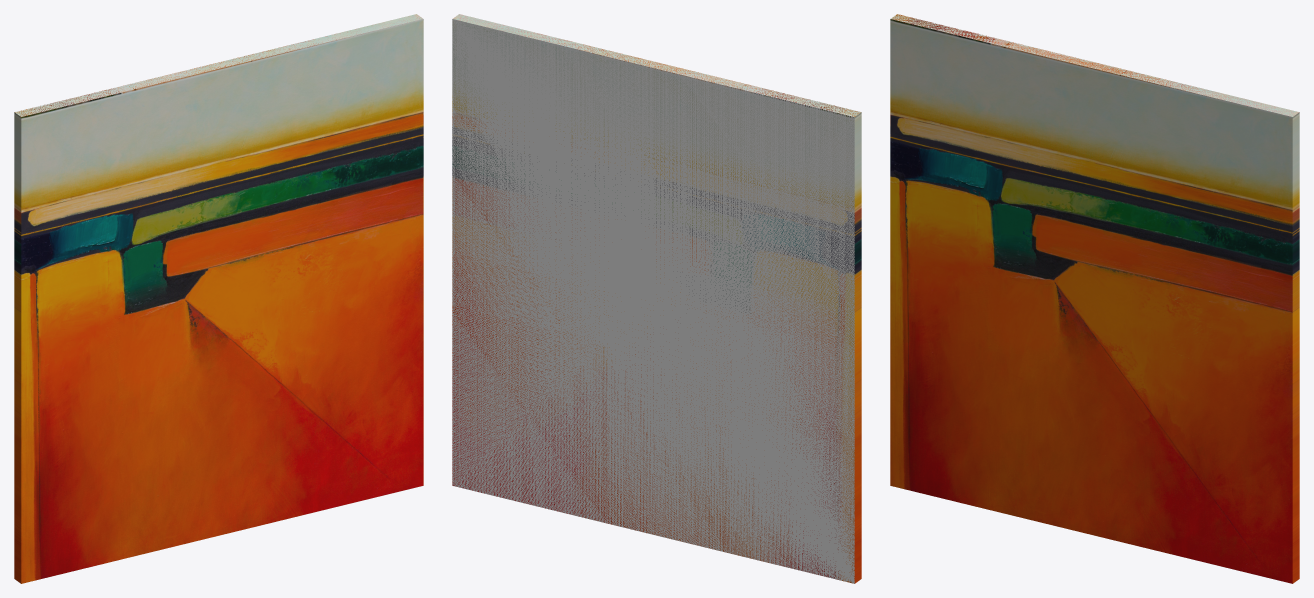
The model's file is Painting-012.dae.
3 views of the same model, side by side, from view 1: azimuth 30°, elevation 25°; view 2: azimuth 150°, elevation 25°; view 3: azimuth 330°, elevation 25° (orthographic).
Visible parts, largest first — view 1: group_0; view 2: group_0 (×2); view 3: group_0.
Part boxes in pixels (left/top/right/bottom): group_0: left=14, top=14, right=423, bottom=583; group_0 (×2): left=452, top=14, right=861, bottom=583; group_0: left=890, top=14, right=1299, bottom=583.
Size of the model in its own units: 54.05 by 1.57 by 59.95.
